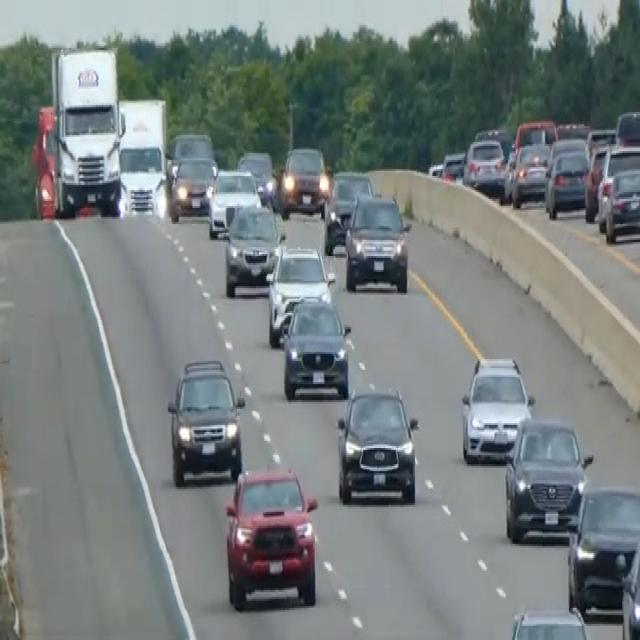car: (223, 464, 319, 610), (503, 414, 592, 542), (166, 356, 245, 486), (335, 384, 419, 505), (566, 482, 639, 615), (460, 352, 534, 464), (281, 293, 351, 400), (265, 240, 335, 345), (343, 192, 411, 293), (223, 201, 284, 295), (323, 169, 374, 252), (206, 166, 260, 238), (279, 142, 329, 215), (168, 151, 217, 221), (544, 146, 589, 218), (502, 603, 593, 638), (602, 164, 639, 244), (462, 135, 507, 197), (510, 139, 550, 208), (620, 521, 639, 638), (236, 148, 275, 205), (583, 142, 611, 220), (166, 128, 213, 169), (513, 116, 557, 151), (614, 106, 639, 148), (440, 150, 465, 182)
lorry: (33, 45, 125, 218)
